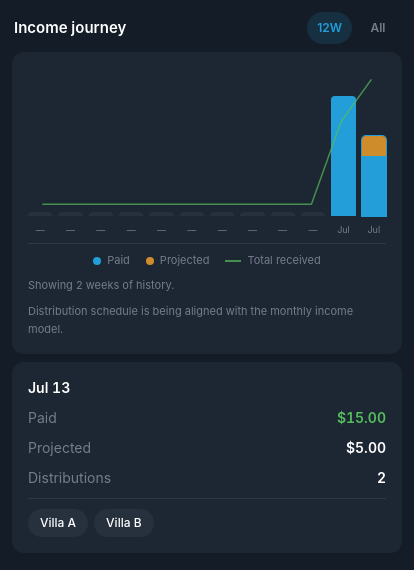
Test: IncomeJourneyChart — explorable income over time › empty pads explain themselves instead of claiming $0
What coordinates should you click on to do the following:
click the 3rd button with test id "journey-bar"
I would click on:
 (40, 194)
Its box is x1=28 y1=172 x2=52 y2=216.
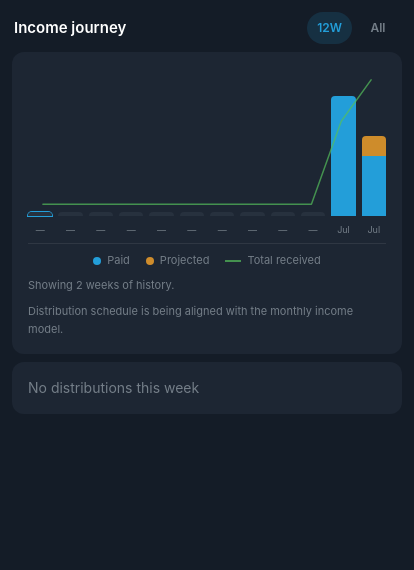
Now the element with test id "journey-detail" reads "No distributions this week", box x1=28 y1=379 x2=199 y2=396
